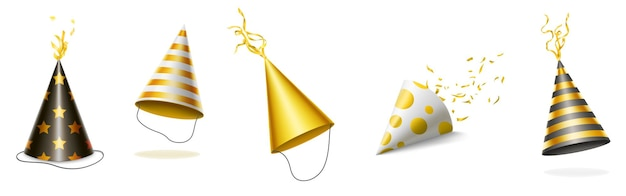cone: (24, 60, 94, 163), (265, 57, 335, 154), (542, 60, 611, 156), (135, 25, 204, 120), (376, 79, 453, 155)
